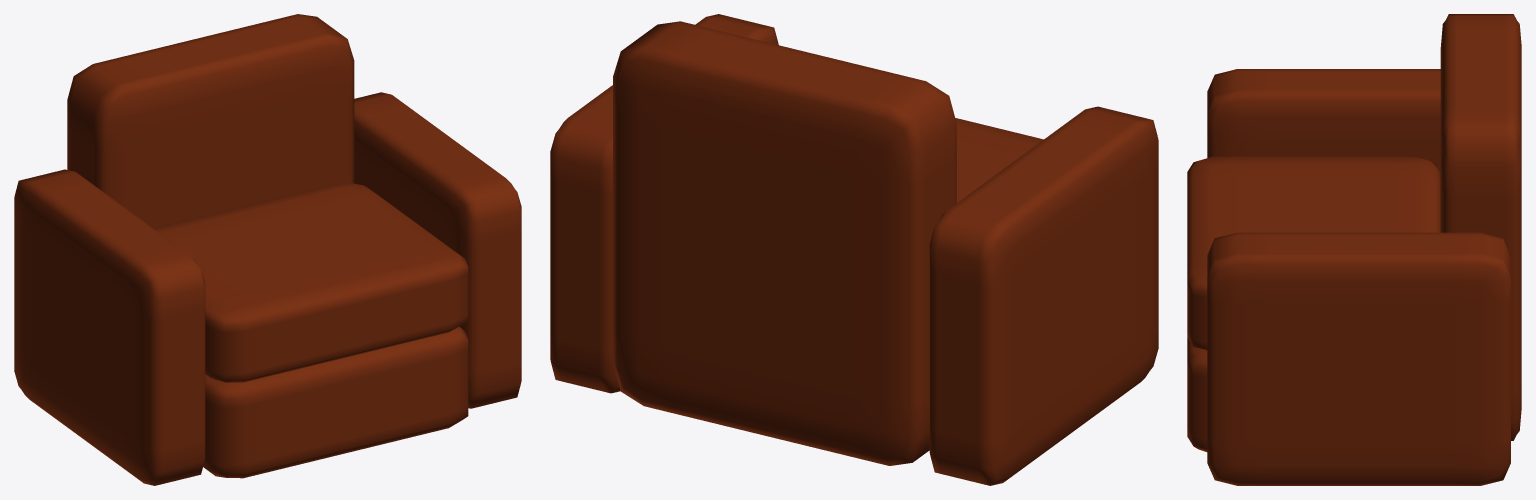
The model's file is sillonchico.FBX.
The picture shows the model from 3 angles, left to right: view 1: azimuth 30°, elevation 25°; view 2: azimuth 150°, elevation 25°; view 3: azimuth 270°, elevation 25°; orthographic projection. The views are drawn at different scales.
Parts seen in each view (by area): view 1: Box004, Box002, Box001, Box003, Box005; view 2: Box002, Box004, Box005, Box001; view 3: Box005, Box001, Box004, Box002, Box003.
Boxes of the visible parts, box(x1,y1,x2,y2) form: Box004: box(14, 169, 205, 485); Box002: box(67, 14, 354, 227); Box001: box(153, 183, 468, 382); Box003: box(203, 327, 468, 478); Box005: box(354, 92, 521, 408); Box002: box(613, 21, 956, 465); Box004: box(929, 106, 1158, 485); Box005: box(550, 14, 778, 393); Box001: box(955, 118, 1043, 202); Box005: box(1207, 232, 1510, 485); Box001: box(1187, 156, 1440, 350); Box004: box(1207, 69, 1440, 232); Box002: box(1440, 14, 1521, 440); Box003: box(1187, 338, 1207, 451).
Size of the model in its own units: 452 by 353 by 330.
